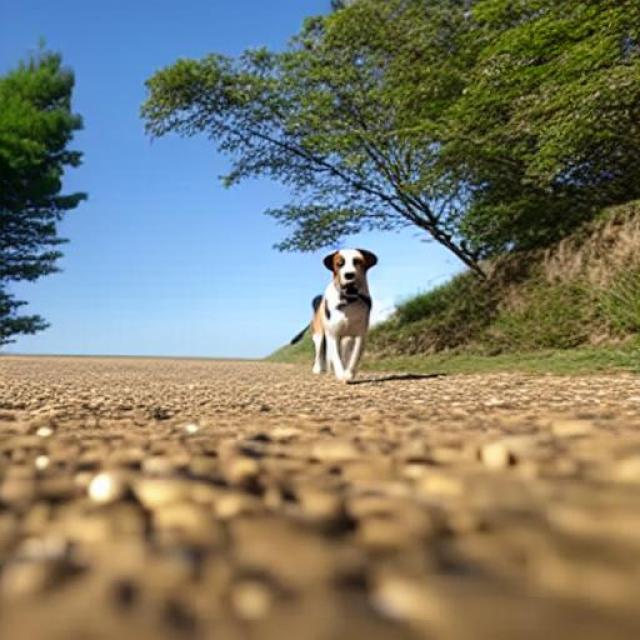Dog: (311, 247, 380, 382)
